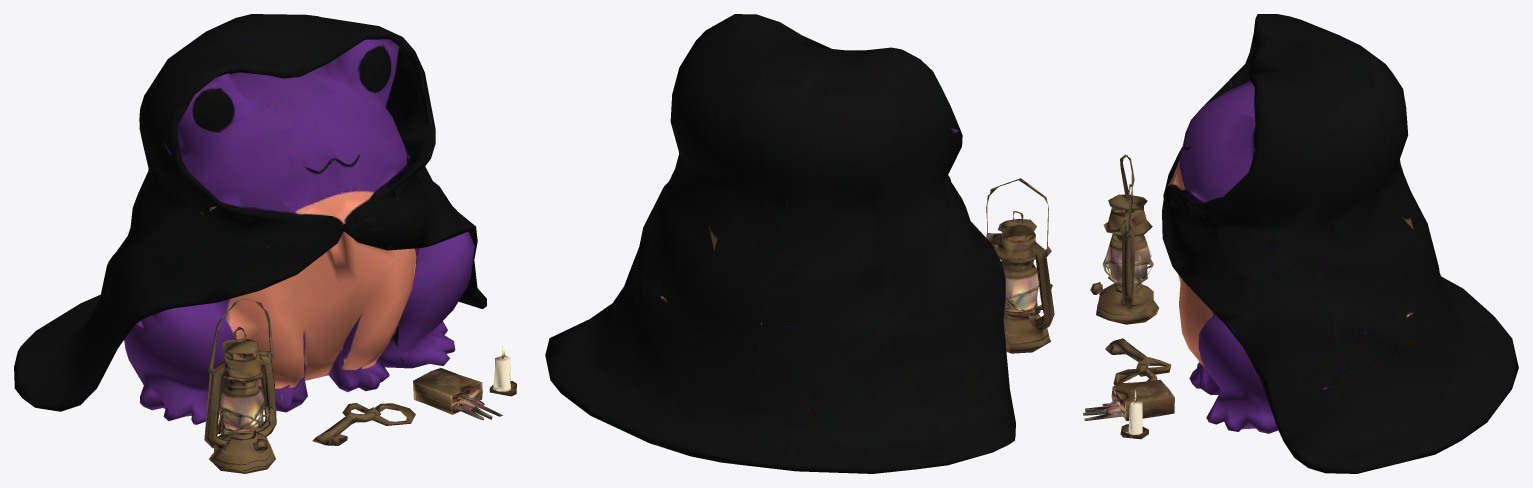
The model's file is veilleuse.glb.
3 views of the same model, side by side, from view 1: azimuth 30°, elevation 25°; view 2: azimuth 150°, elevation 25°; view 3: azimuth 270°, elevation 25° (orthographic). The views are drawn at different scales.
Parts seen in each view (by area): view 1: mesh_node; view 2: mesh_node; view 3: mesh_node.
Boxes of the visible parts, box(x1,y1,x2,y2) form: mesh_node: box(14, 14, 516, 473); mesh_node: box(545, 14, 1054, 473); mesh_node: box(1083, 14, 1518, 473).
Bounding box in the file's own units: 1.9 × 1.31 × 1.64.
Materials: 1 (1 with a texture image).
